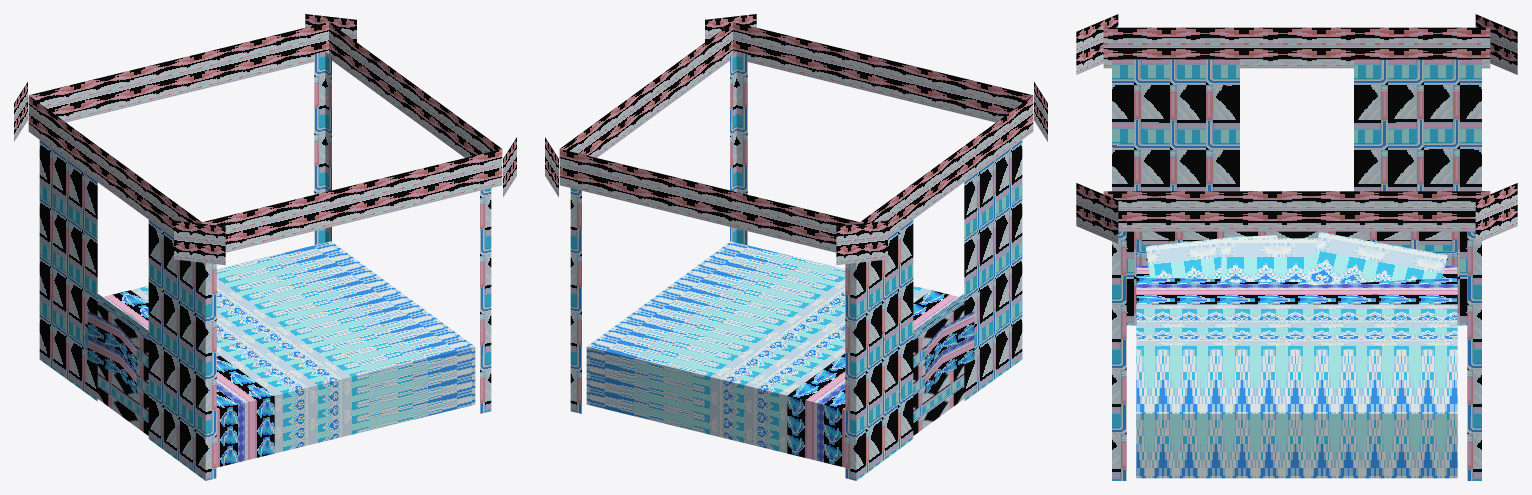
The model's file is 3865kg3_ser46.gltf.
3 renders of one model, left to right at view 1: azimuth 30°, elevation 25°; view 2: azimuth 150°, elevation 25°; view 3: azimuth 270°, elevation 25°, orthographic. The views are drawn at different scales.
Parts seen in each view (by area): view 1: 3865kg3_ser46; view 2: 3865kg3_ser46; view 3: 3865kg3_ser46.
Part boxes in pixels (bbox=[...]): 3865kg3_ser46: bbox=[14, 14, 516, 480]; 3865kg3_ser46: bbox=[545, 14, 1047, 480]; 3865kg3_ser46: bbox=[1076, 14, 1517, 480].
Bounding box in the file's own units: 2.28 × 1.69 × 2.28.
4 materials, 4 textured.
